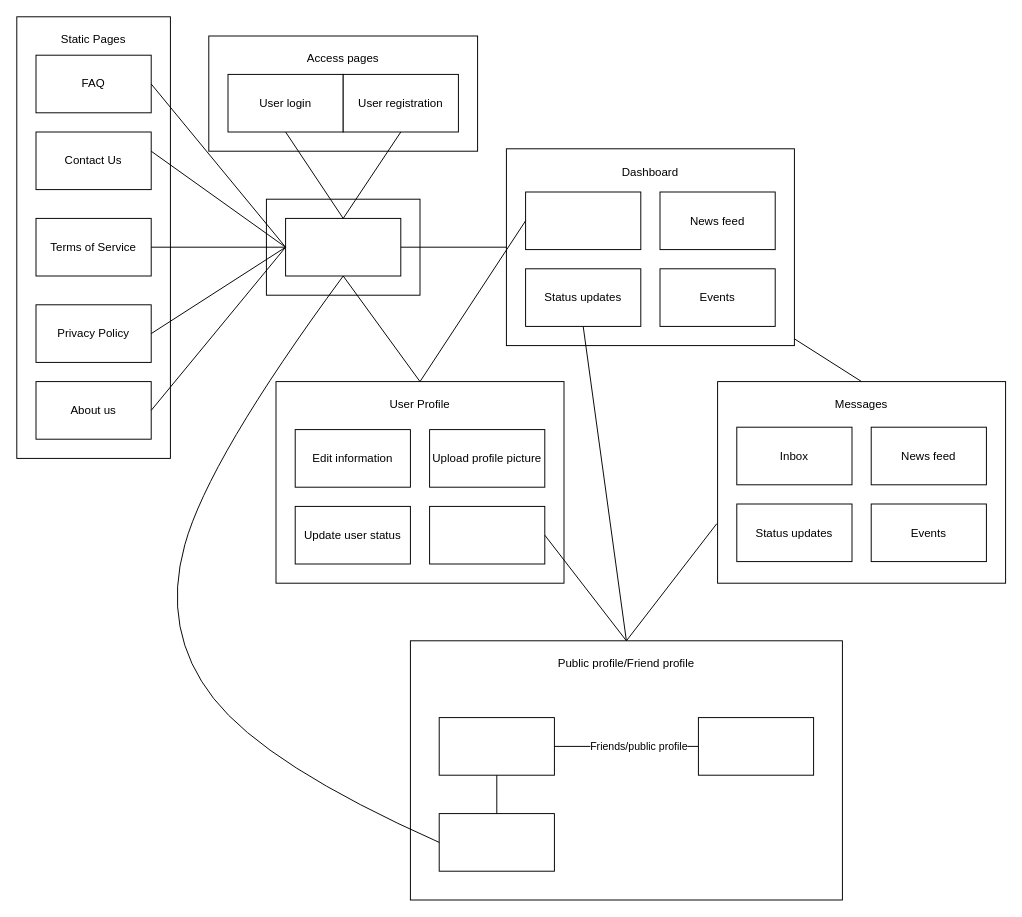
This 1022x917 diagram has some shape labels left out. The shapes that lost their labels are listed below. From the top down, each one's centre as x and y in pixels, then its label:
[583,220]: User profile summary
[343,246]: Home page
[487,534]: View followers
[496,746]: People database
[755,746]: Public Profile
[496,842]: Search
